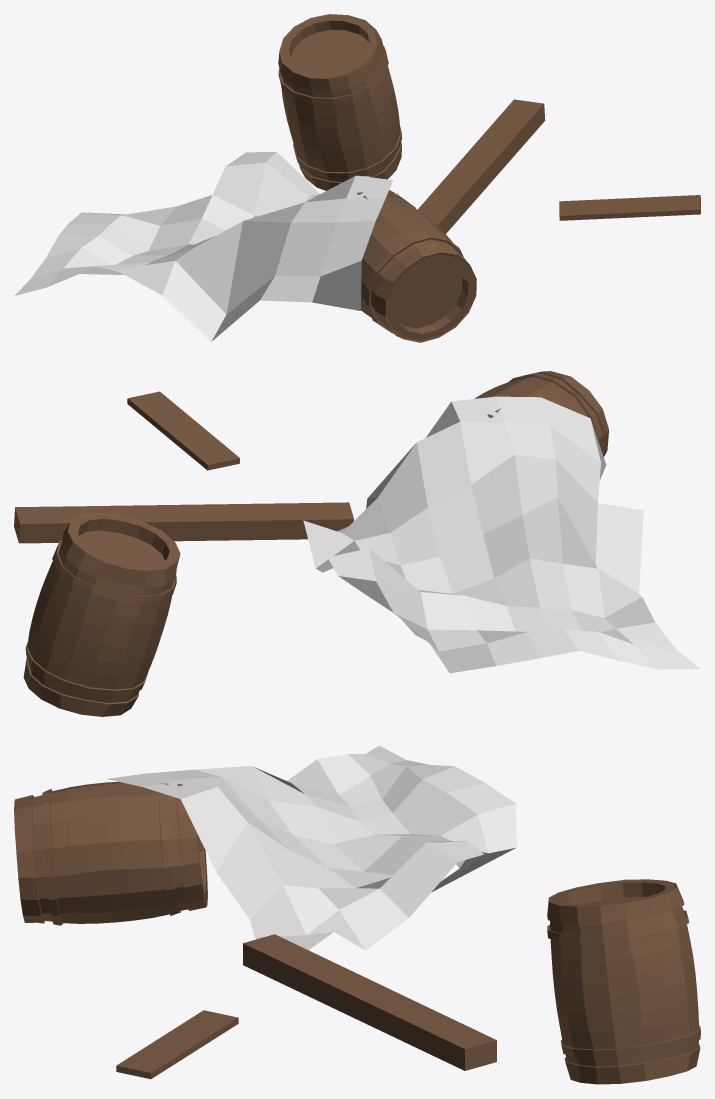
File: sunk_wreck.glb
3 views of the same model, one above another, from view 1: azimuth 30°, elevation 25°; view 2: azimuth 150°, elevation 25°; view 3: azimuth 270°, elevation 25° (orthographic). The views are drawn at different scales.
Parts seen in each view (by area): view 1: Tarp, Barrel.001, Barrel, Plank, Plank.001; view 2: Tarp, Barrel.001, Plank, Plank.001, Barrel; view 3: Tarp, Barrel.001, Barrel, Plank, Plank.001.
Part boxes in pixels (box(x1,y1,x2,y2)): Tarp: box(14, 152, 399, 341); Barrel.001: box(278, 14, 401, 190); Barrel: box(357, 190, 476, 342); Plank: box(417, 99, 545, 233); Plank.001: box(559, 195, 700, 220); Tarp: box(303, 396, 700, 673); Barrel.001: box(23, 512, 180, 716); Plank: box(14, 502, 353, 543); Plank.001: box(127, 391, 240, 470); Barrel: box(474, 371, 608, 456); Tarp: box(107, 745, 516, 950); Barrel.001: box(547, 879, 700, 1084); Barrel: box(14, 781, 207, 925); Plank: box(243, 934, 496, 1070); Plank.001: box(116, 1010, 238, 1079).
Size of the model in its own units: 4.17 by 1.09 by 3.38.
